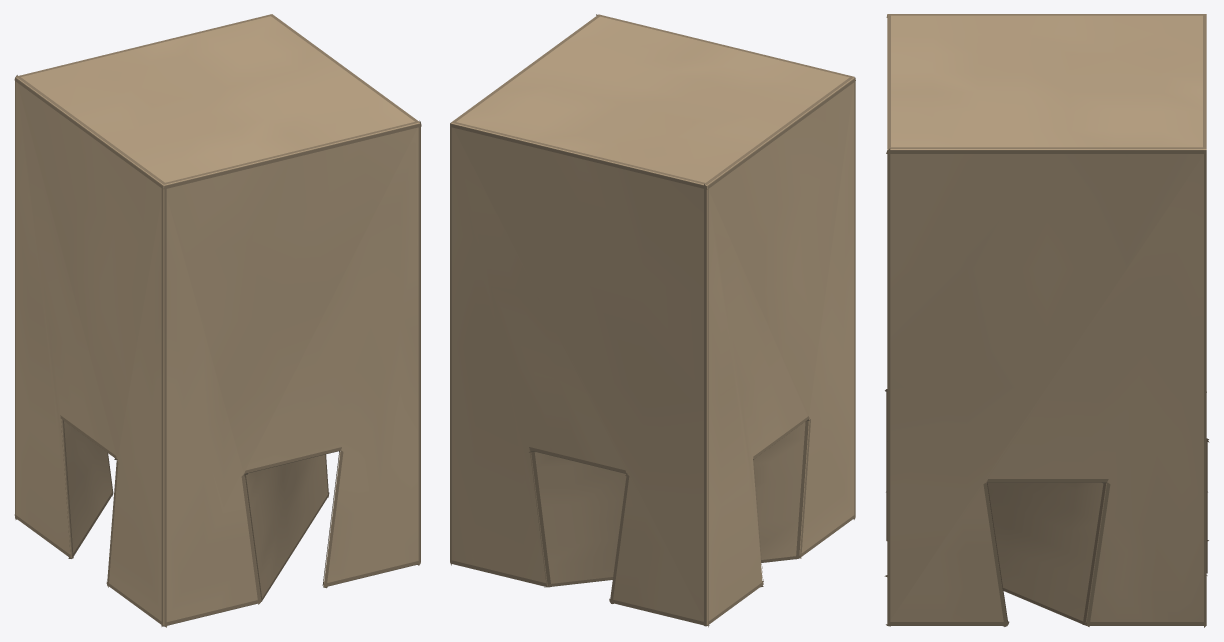
3 renders of one model, left to right at view 1: azimuth 30°, elevation 25°; view 2: azimuth 150°, elevation 25°; view 3: azimuth 270°, elevation 25°, orthographic. The views are drawn at different scales.
Visible parts, largest first — view 1: part-b; view 2: part-b; view 3: part-b.
Boxes of the visible parts, box(x1,y1,x2,y2) form: part-b: box(14, 14, 421, 627); part-b: box(450, 14, 855, 627); part-b: box(884, 14, 1209, 627).
Bounding box in the file's own units: 0.1231 × 0.2007 × 0.1231.
